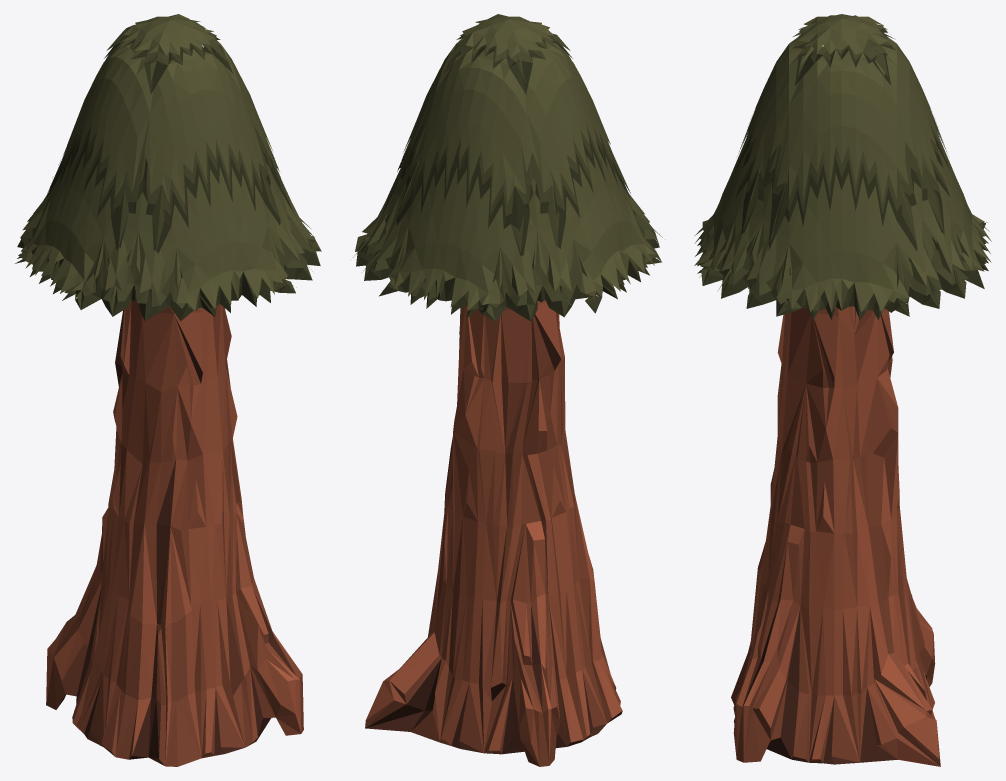
File: redwood.gltf
The picture shows the model from 3 angles, left to right: view 1: azimuth 30°, elevation 25°; view 2: azimuth 150°, elevation 25°; view 3: azimuth 270°, elevation 25°; orthographic projection.
Size of the model in its own units: 210 by 546 by 210.
Materials: 1 (1 with a texture image).
